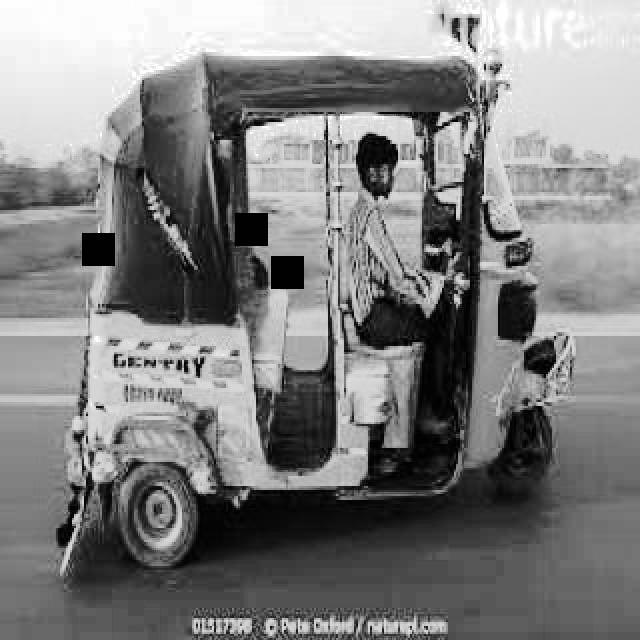Auto-Rickshaw: (56, 64, 578, 558)
